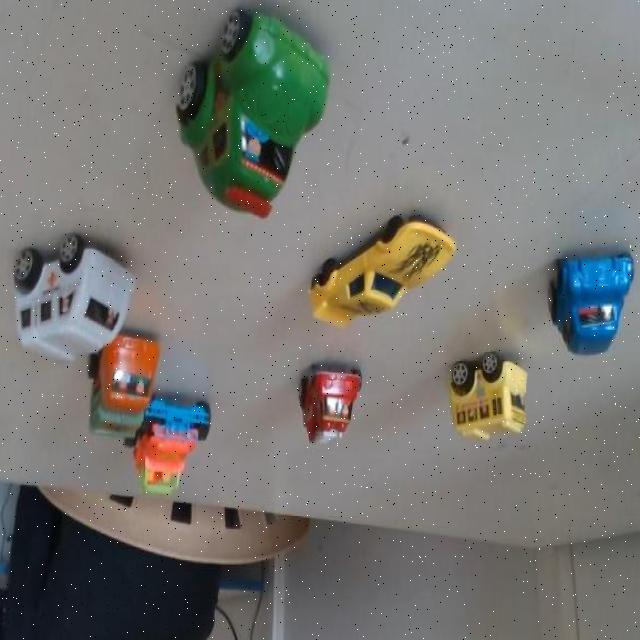car: (166, 3, 344, 218), (9, 210, 149, 383), (311, 205, 453, 336), (136, 395, 223, 504), (440, 340, 530, 444), (554, 248, 634, 355), (286, 346, 363, 457), (88, 326, 158, 448)
